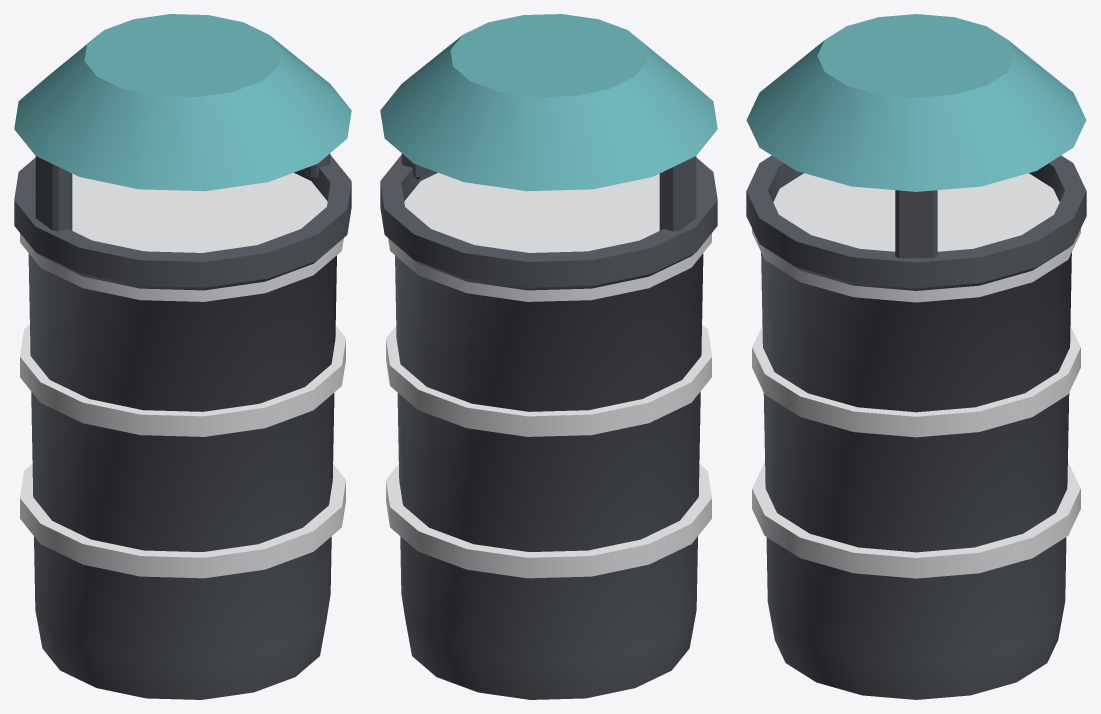
File: Street_TrashCan.fbx
3 renders of one model, left to right at view 1: azimuth 30°, elevation 25°; view 2: azimuth 150°, elevation 25°; view 3: azimuth 270°, elevation 25°, orthographic.
Visible parts, largest first — view 1: Street_TrashCan; view 2: Street_TrashCan; view 3: Street_TrashCan.
Part boxes in pixels (x1=…): Street_TrashCan: x1=14, y1=14, x2=351, y2=699; Street_TrashCan: x1=380, y1=14, x2=717, y2=699; Street_TrashCan: x1=746, y1=14, x2=1086, y2=699.
Size of the model in its own units: 0.48 by 0.91 by 0.48.
